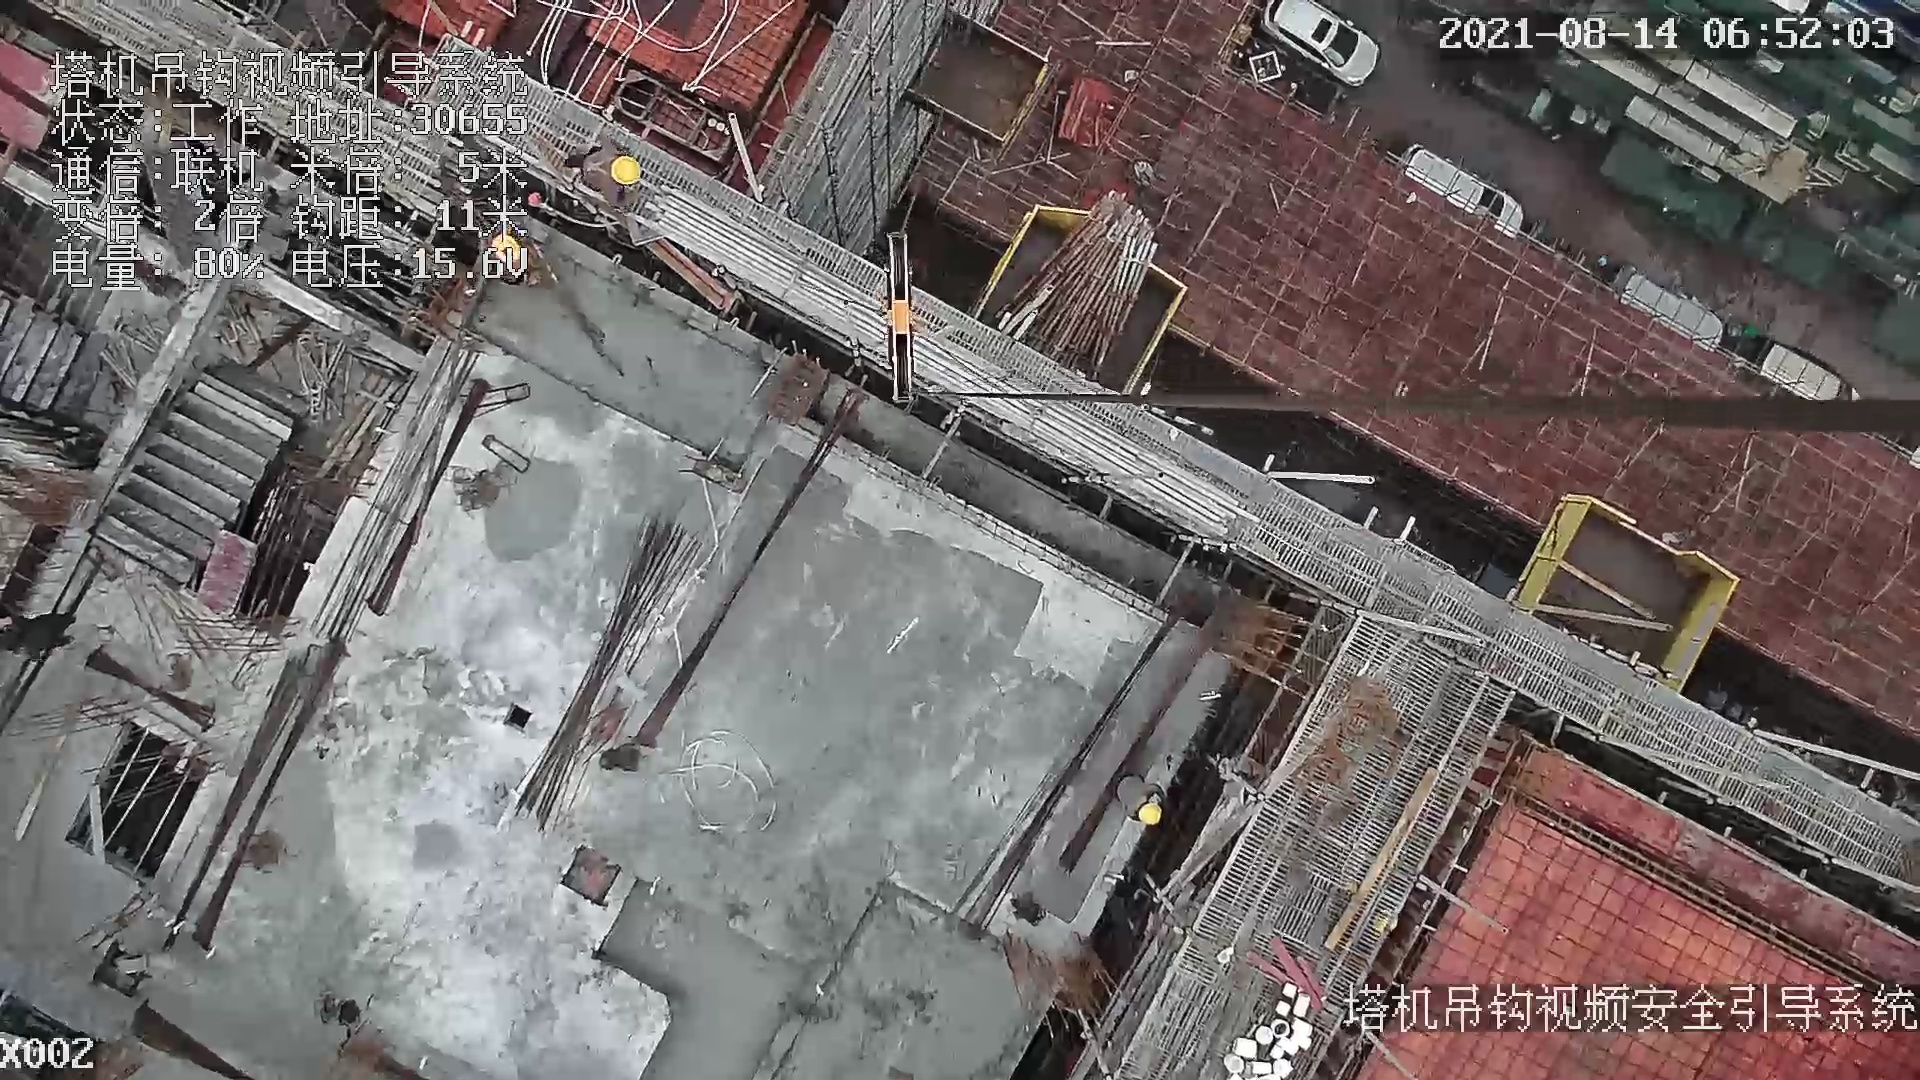helmet: (611, 156, 641, 185), (1139, 803, 1162, 825)
hook: (881, 230, 928, 406)
person: (565, 131, 641, 215), (2, 608, 82, 654), (1115, 768, 1168, 826)
rebar: (642, 182, 1259, 534), (516, 518, 700, 831)
scaffold: (993, 191, 1156, 388)
